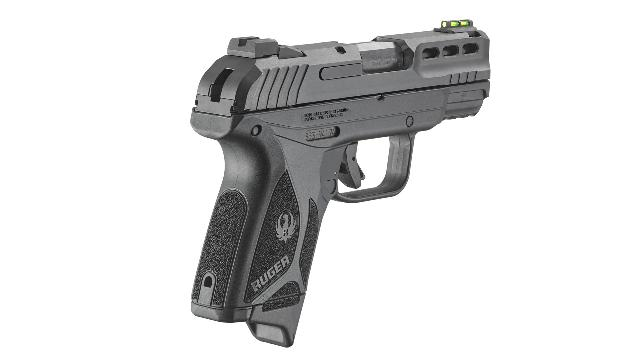handgun: (182, 15, 494, 352)
